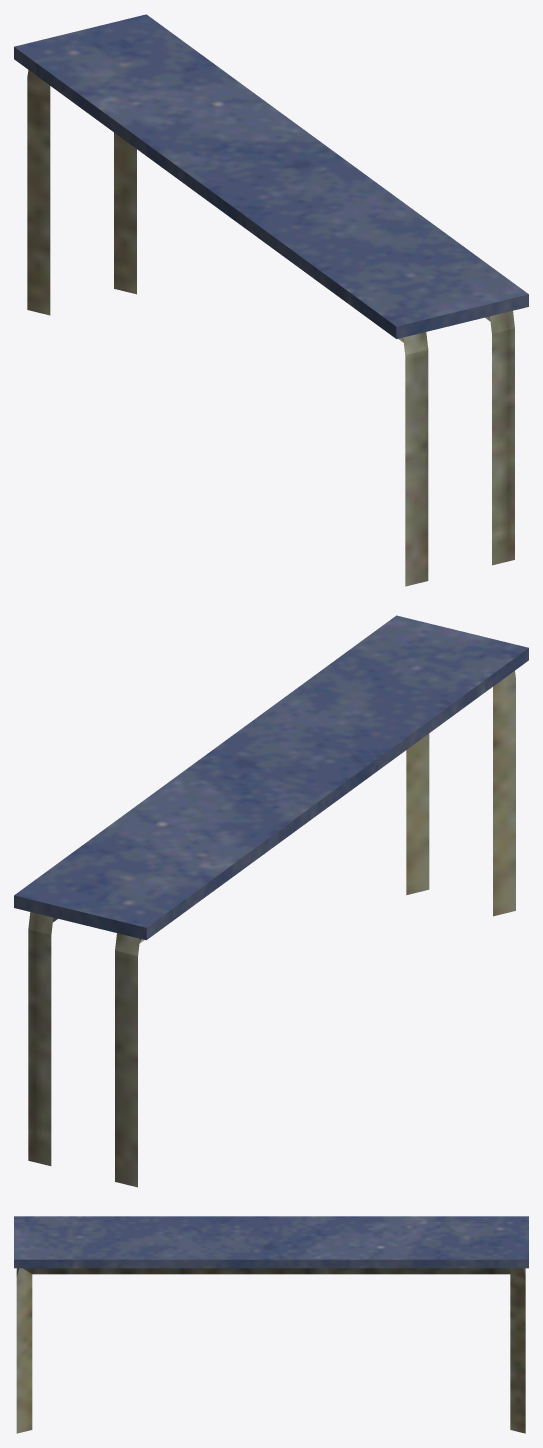
Rendered from Urban_BusstopBenchAlt_Model.fbx.
3 renders of one model, top to bottom at view 1: azimuth 30°, elevation 25°; view 2: azimuth 150°, elevation 25°; view 3: azimuth 270°, elevation 25°, orthographic. The views are drawn at different scales.
Visible parts, largest first — view 1: Urban_BusstopBenchAlt_Mesh; view 2: Urban_BusstopBenchAlt_Mesh; view 3: Urban_BusstopBenchAlt_Mesh.
Part boxes in pixels (left/top/right/bottom): Urban_BusstopBenchAlt_Mesh: left=14, top=14, right=528, bottom=586; Urban_BusstopBenchAlt_Mesh: left=14, top=615, right=528, bottom=1187; Urban_BusstopBenchAlt_Mesh: left=14, top=1216, right=528, bottom=1433.
Bounding box in the file's own units: 0.4 × 0.7619 × 2.
